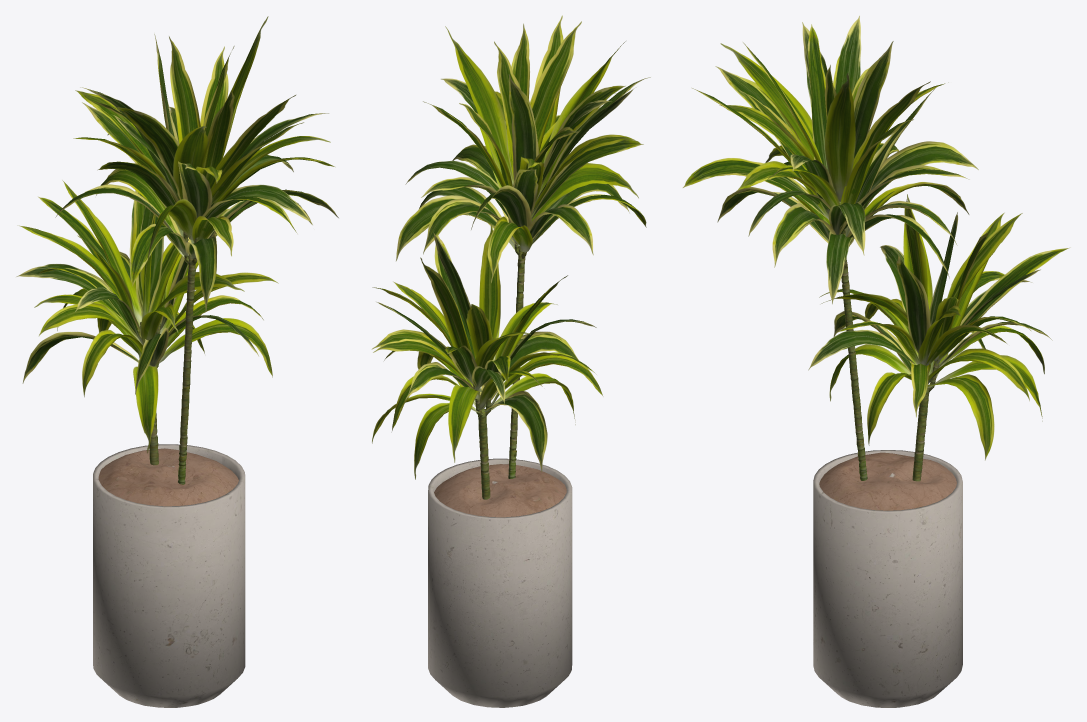
Rendered from bk_dracaena.glb.
The picture shows the model from 3 angles, left to right: view 1: azimuth 30°, elevation 25°; view 2: azimuth 150°, elevation 25°; view 3: azimuth 270°, elevation 25°; orthographic projection. The views are drawn at different scales.
Visible parts, largest first — view 1: House Plant Dracaena Lemon Lime; view 2: House Plant Dracaena Lemon Lime; view 3: House Plant Dracaena Lemon Lime.
Boxes of the visible parts, x1,y1,x2,y2 form: House Plant Dracaena Lemon Lime: [16, 16, 338, 707]; House Plant Dracaena Lemon Lime: [371, 15, 650, 707]; House Plant Dracaena Lemon Lime: [683, 15, 1070, 707].
Bounding box in the file's own units: 0.6548 × 1.73 × 0.941.
Materials: 4 (4 with a texture image).
